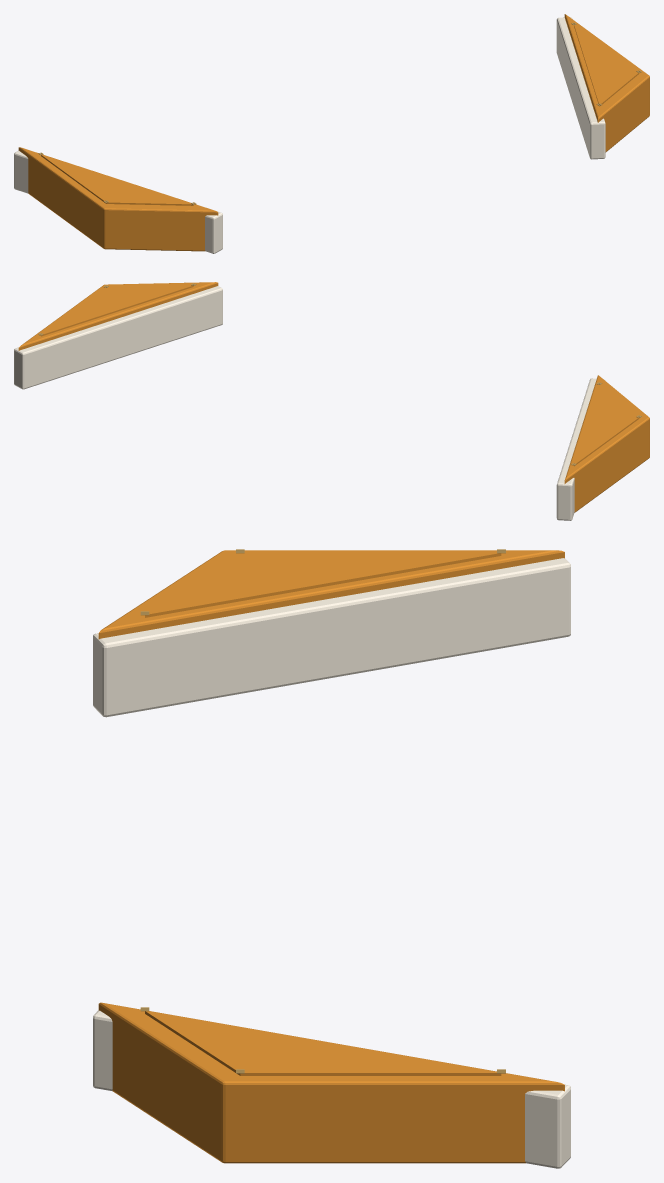
Rendered from Acorn_Slingshots.glb.
3 renders of one model, top to bottom at view 1: azimuth 30°, elevation 25°; view 2: azimuth 150°, elevation 25°; view 3: azimuth 270°, elevation 25°, orthographic. The views are drawn at different scales.
Visible parts, largest first — view 1: SlingBody1, SlingBody2, Sling2, Sling1; view 2: Sling2, SlingBody1, SlingBody2, Sling1; view 3: SlingBody2, Sling1, SlingBody1, Sling2.
Part boxes in pixels (x1=…): SlingBody1: x1=18, y1=147, x2=218, y2=251; SlingBody2: x1=564, y1=14, x2=649, y2=152; Sling2: x1=556, y1=17, x2=605, y2=159; Sling1: x1=14, y1=150, x2=222, y2=253; Sling2: x1=14, y1=286, x2=222, y2=389; SlingBody1: x1=564, y1=375, x2=649, y2=512; SlingBody2: x1=18, y1=282, x2=218, y2=350; Sling1: x1=556, y1=378, x2=605, y2=520; SlingBody2: x1=98, y1=1002, x2=564, y2=1163; Sling1: x1=93, y1=558, x2=570, y2=717; SlingBody1: x1=98, y1=550, x2=564, y2=639; Sling2: x1=93, y1=1010, x2=570, y2=1168.
Bounding box in the file's own units: 0.3988 × 0.0297 × 0.1481.
